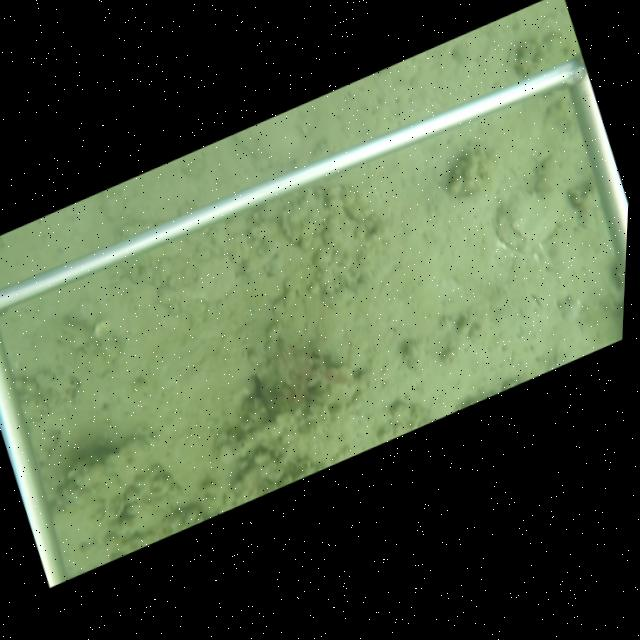Oyster-Indeterminate: (493, 189, 566, 253)
